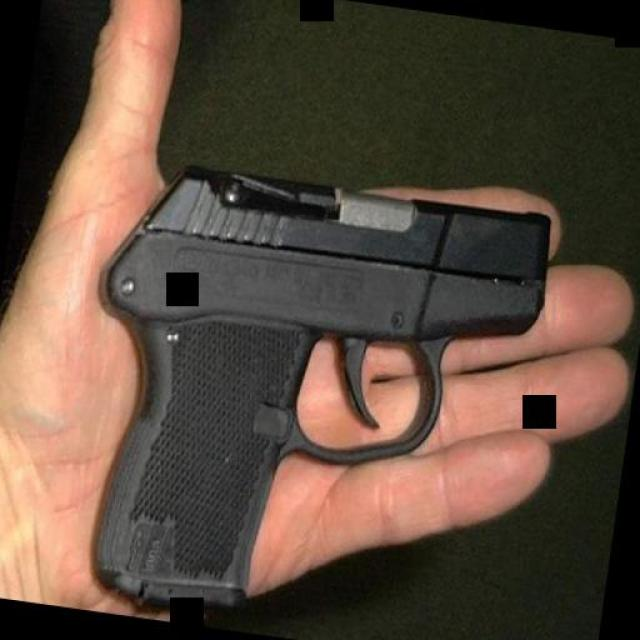gun: (54, 142, 556, 640)
